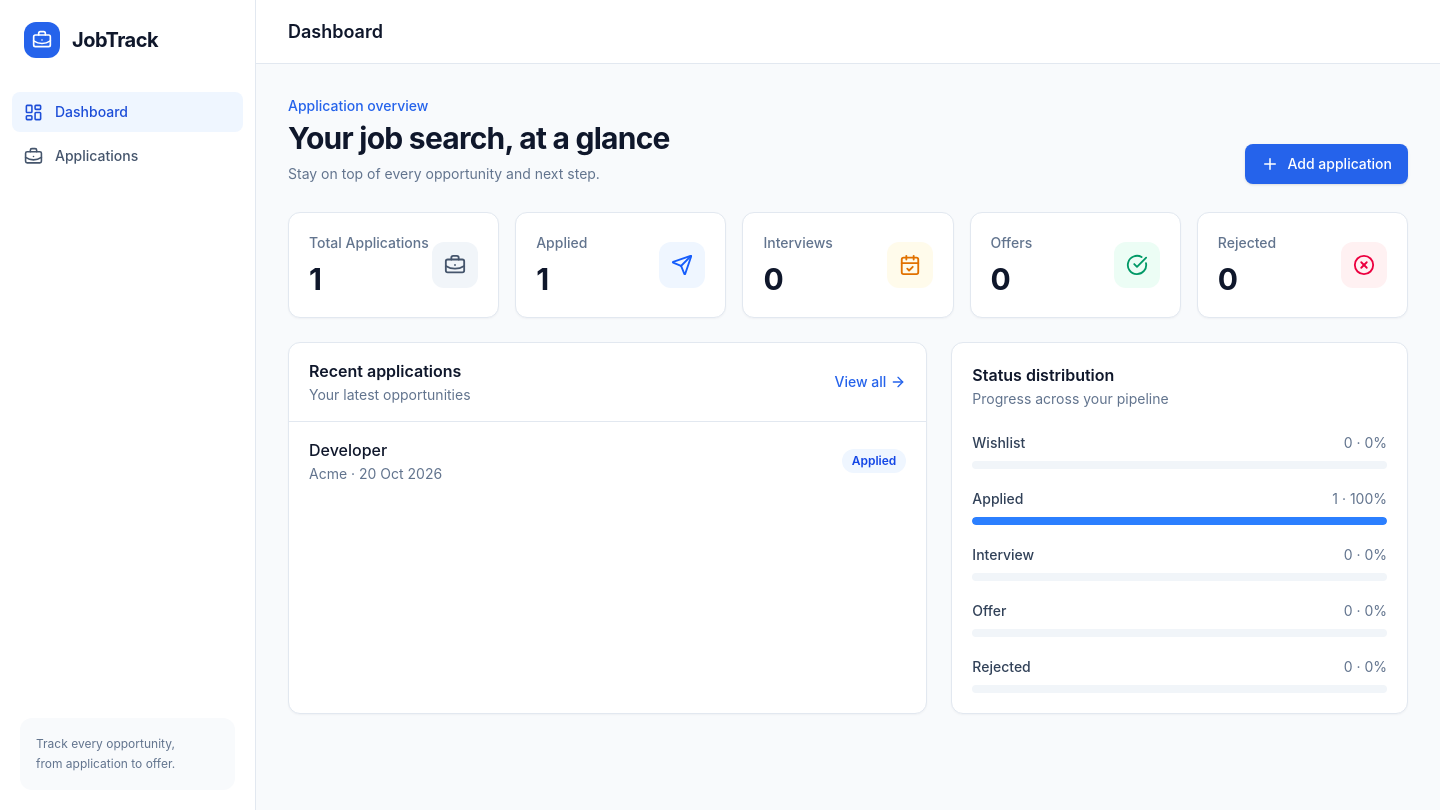
it: application management interactions › preserves a cancelled deletion and removes a confirmed application
The image size is (1440, 810).
Click the button "Applications". click: (128,156)
box: [12,136,243,176]
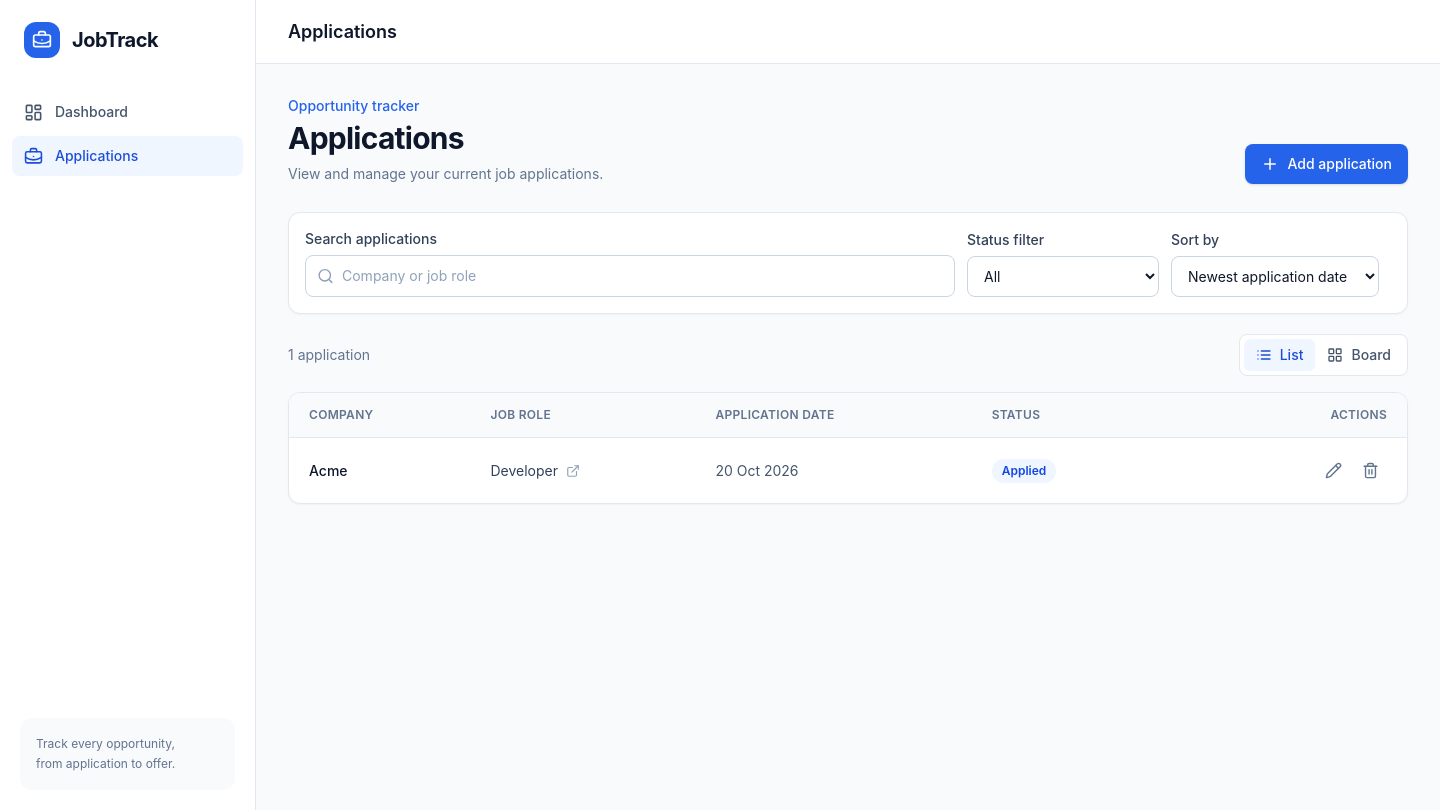
Click the button named "Delete Acme". click: (1370,470)
box: [1354,454,1387,487]
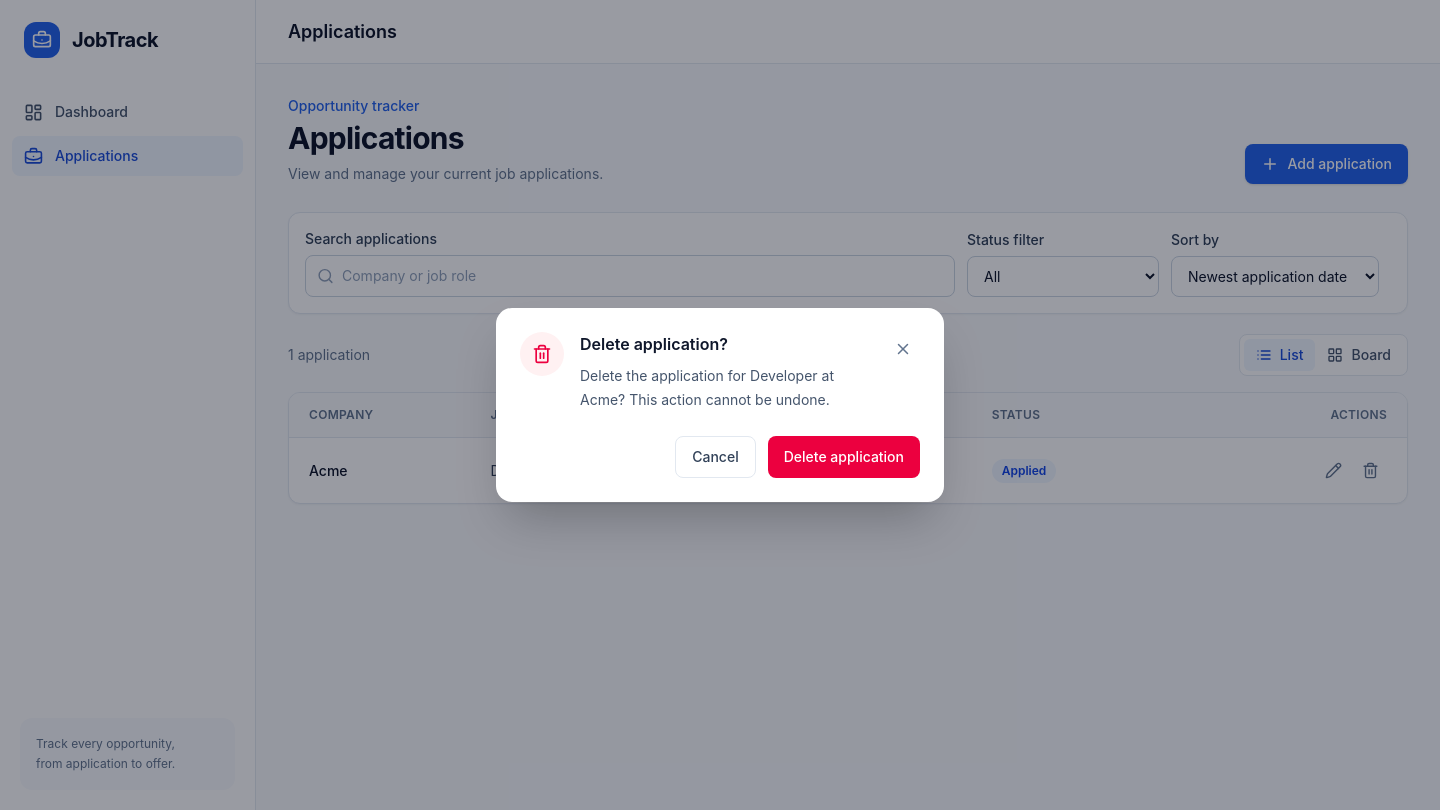
Expected: the dialog "Delete application?" is shown
Click the button "Cancel". click: (715,457)
box: [675,436,756,478]
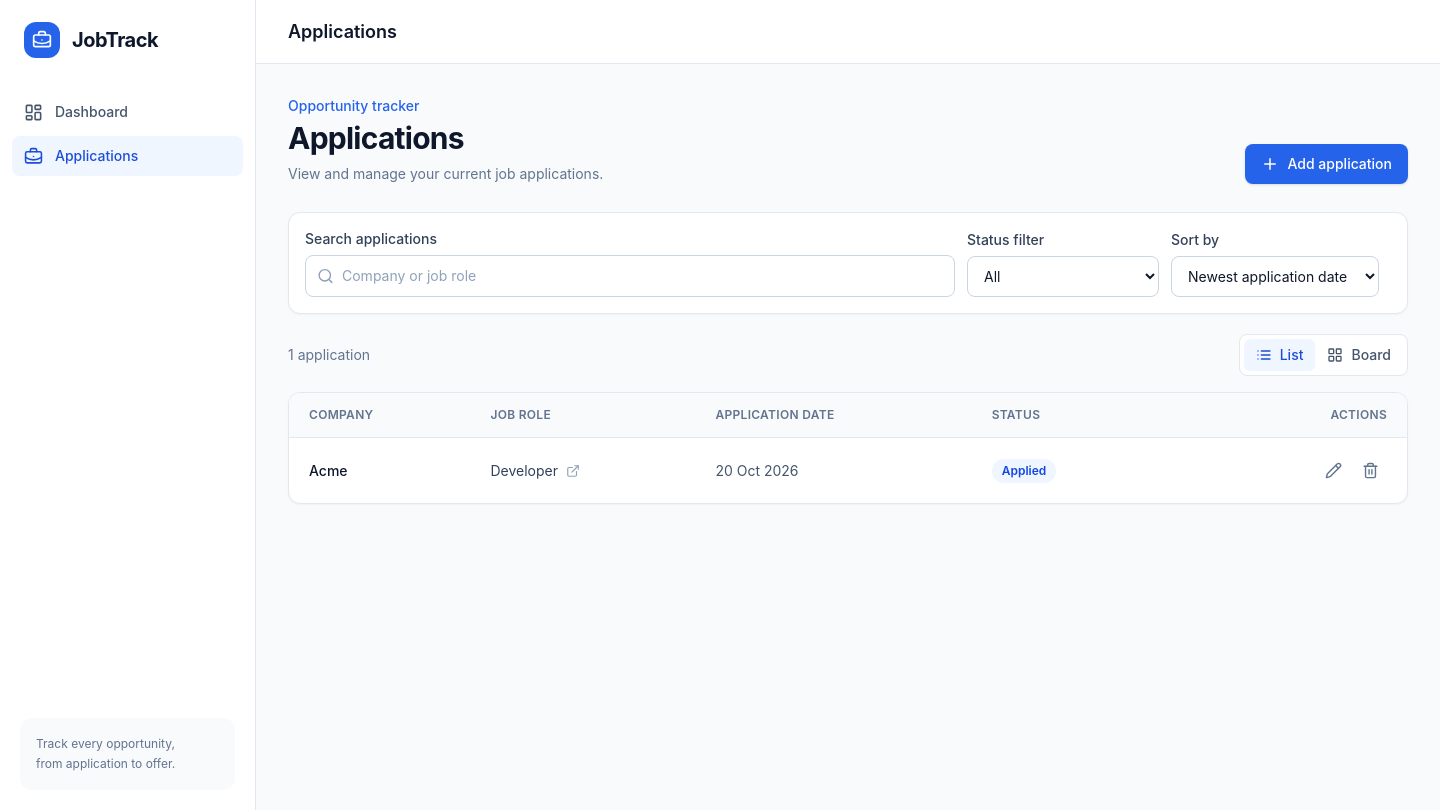
Expected: the heading "Delete application?" is gone
Click the button named "Delete Acme". click: (1370,470)
box: [1354,454,1387,487]
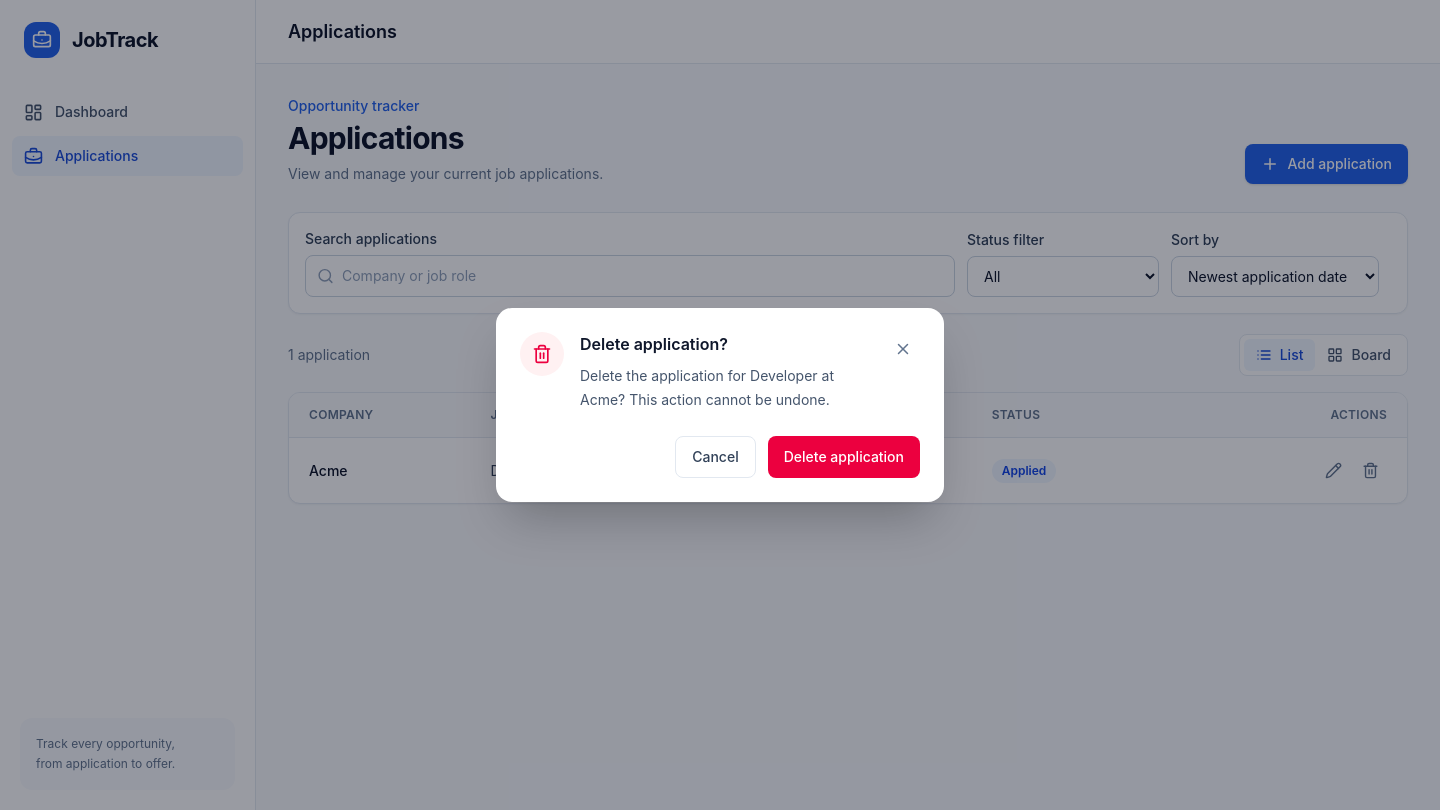
Click the button "Delete application". click: (844,457)
box: [768,436,920,478]
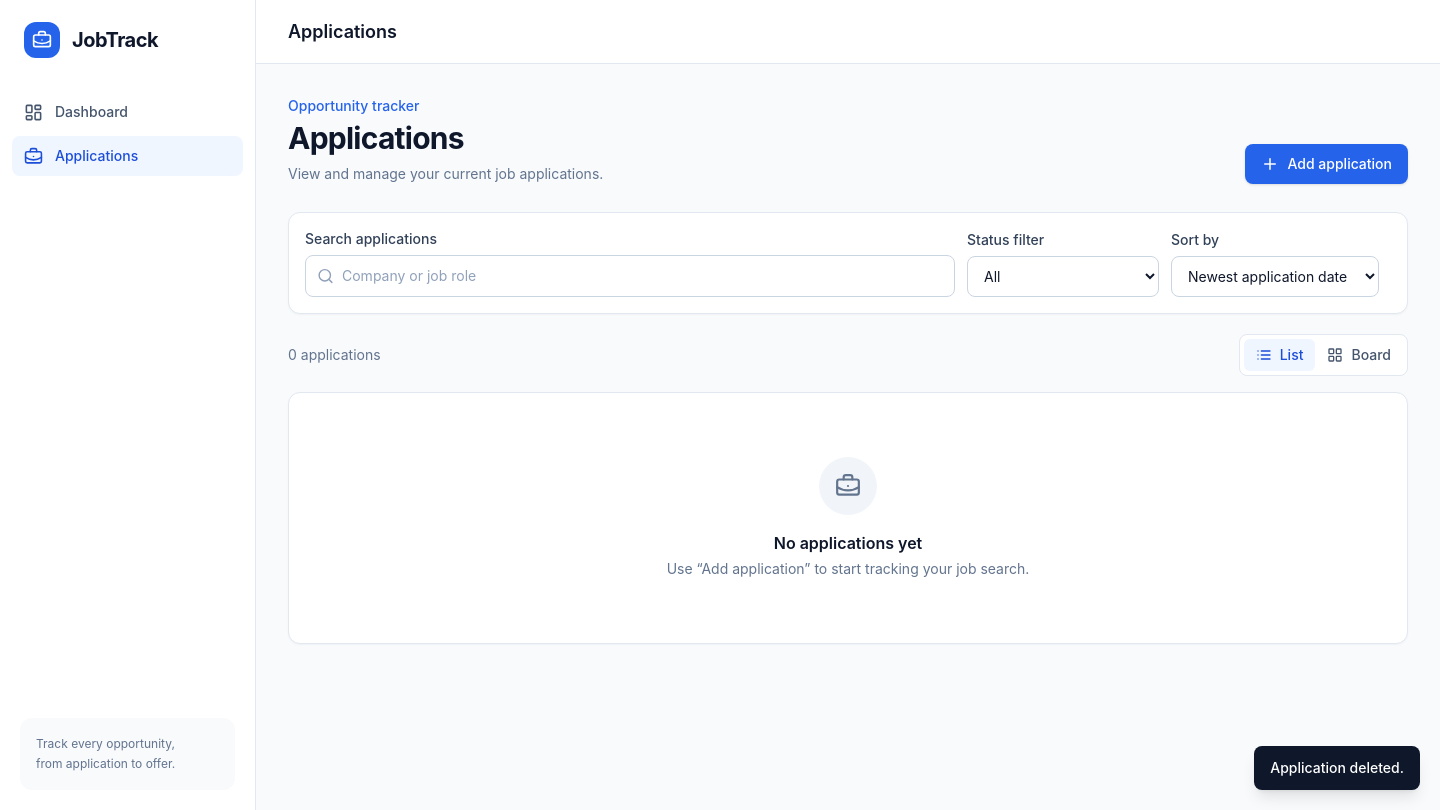
Expected: the heading "No applications yet" is shown, [774,531,922,555]
Click the button "Dashboard". click: (128,112)
box: [12,92,243,132]
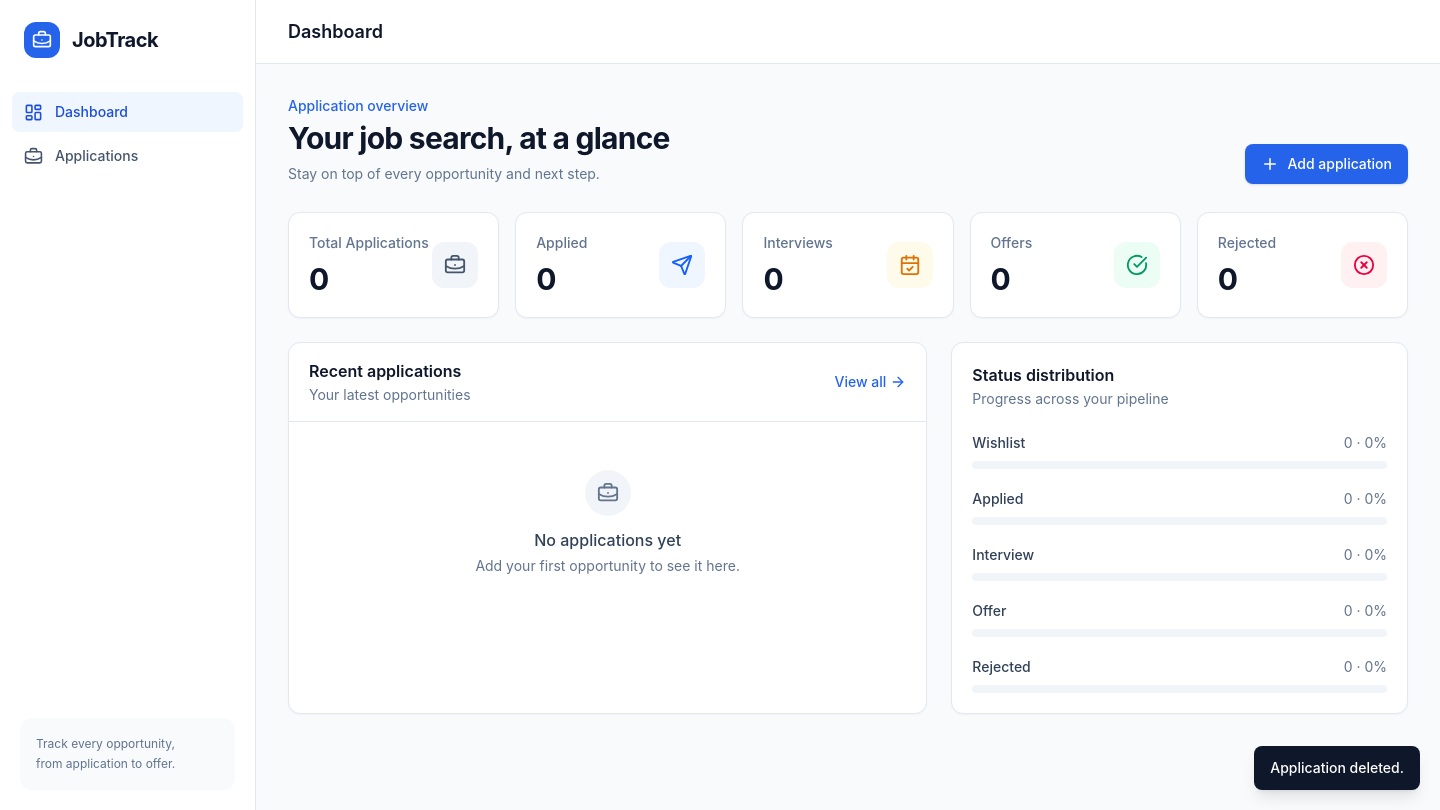
Expected: the element named "Total Applications: 0" is shown, [288,212,499,318]
